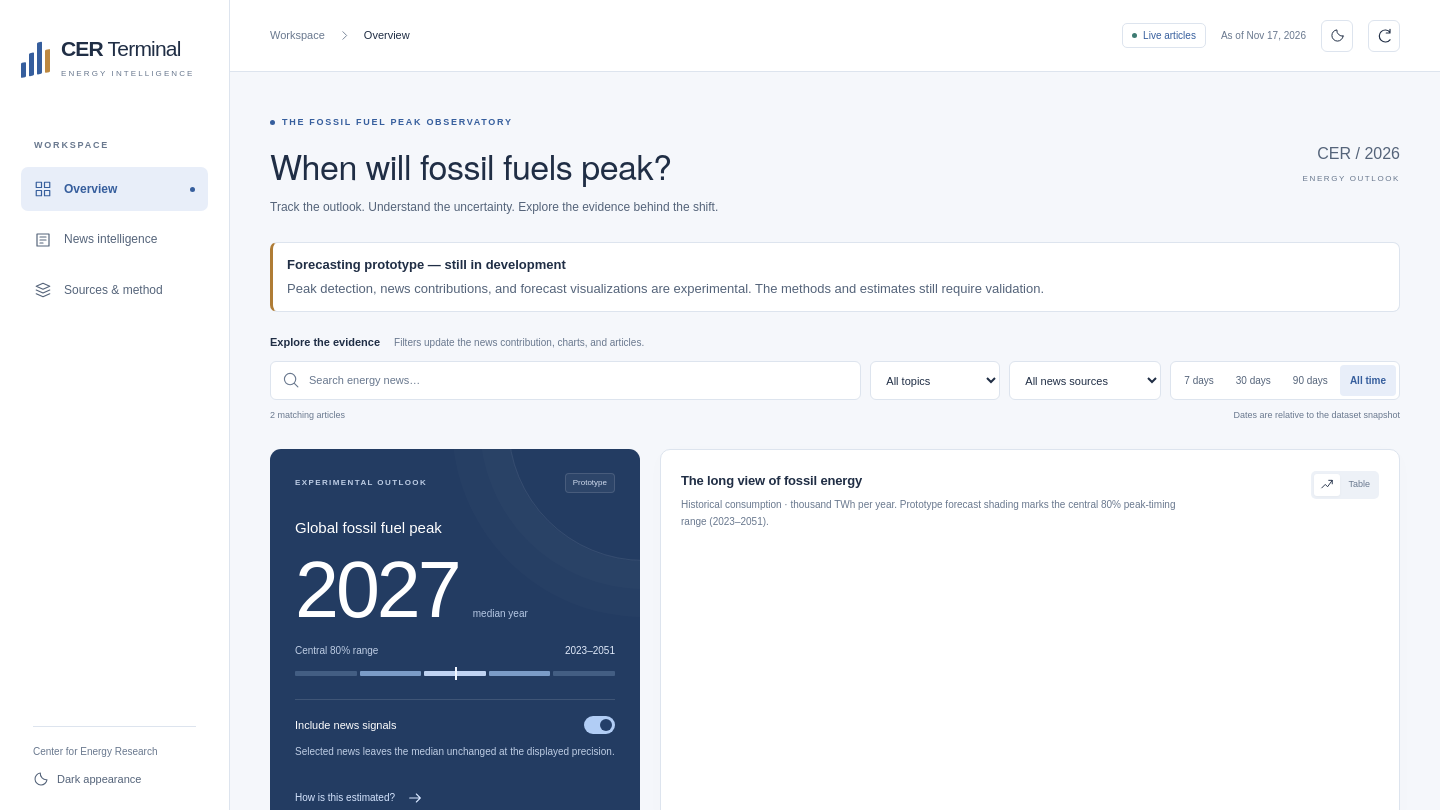
it: live pipeline dashboard › retains loaded articles after a refresh fails and supports retry
Expected: the text "Live articles" is shown, [1122,23,1206,48]
Click the button named "Refresh live articles" at (1384, 36), box [1368,20,1400,52]
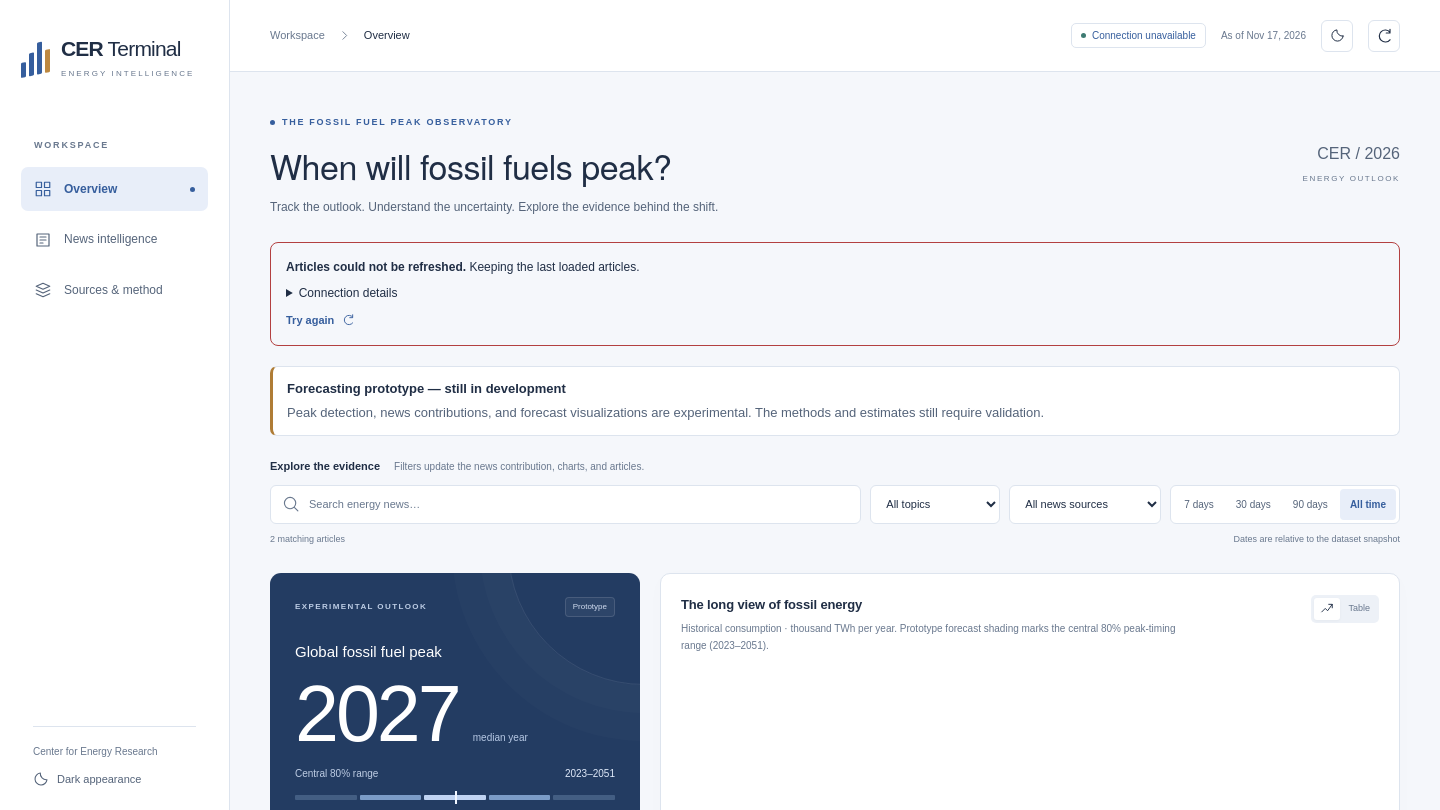
Now the text "Connection unavailable" is shown, box [1071,23,1206,48]
Now the message that starts with "Articles could not be refreshed." shows "Keeping the last loaded articles", box [466,260,640,274]
Click the button "Try again" at (321, 320), box [286,312,355,329]
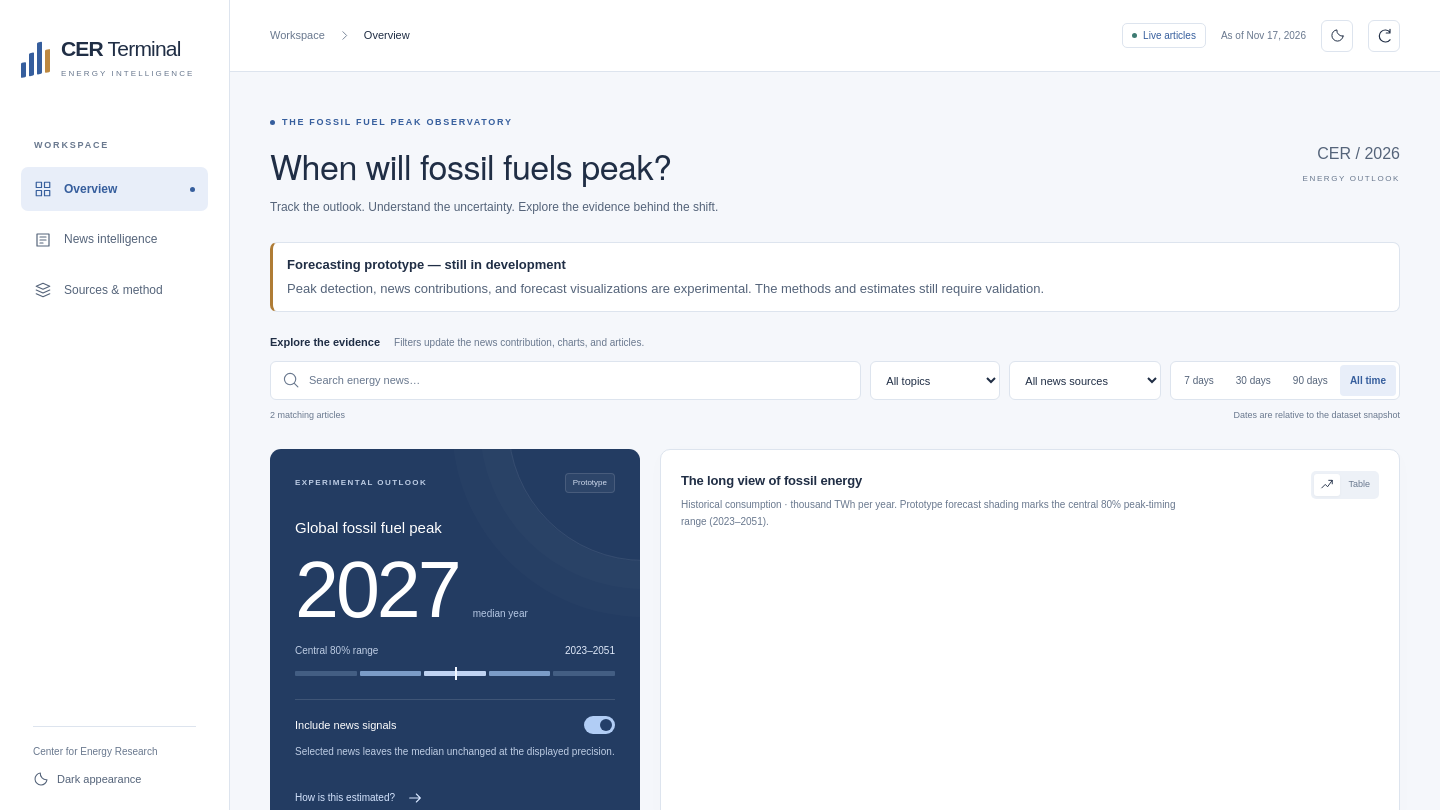
Now the text "Live articles" is shown, box [1122,23,1206,48]
